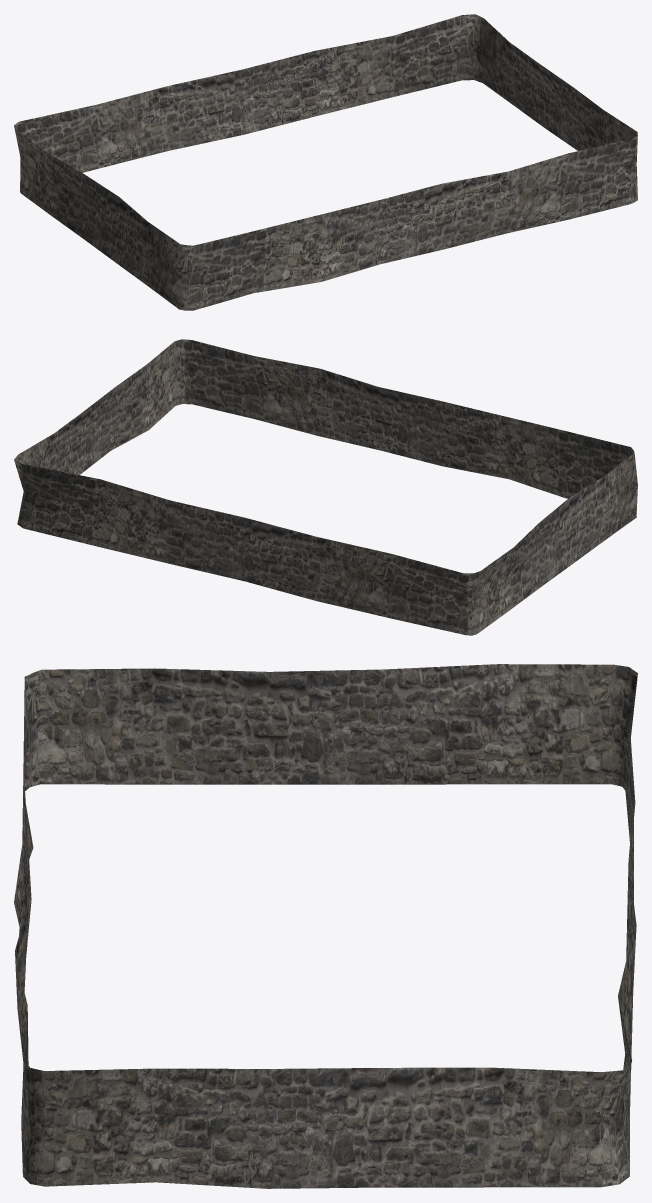
Rendered from foundation_stone.fbx.
3 views of the same model, one above another, from view 1: azimuth 30°, elevation 25°; view 2: azimuth 150°, elevation 25°; view 3: azimuth 270°, elevation 25° (orthographic). The views are drawn at different scales.
Visible parts, largest first — view 1: polySurface1; view 2: polySurface1; view 3: polySurface1.
Boxes of the visible parts, x1,y1,x2,y2 form: polySurface1: (14,14,637,310); polySurface1: (14,339,637,635); polySurface1: (14,664,637,1188).
Size of the model in its own units: 900 by 119 by 579.
